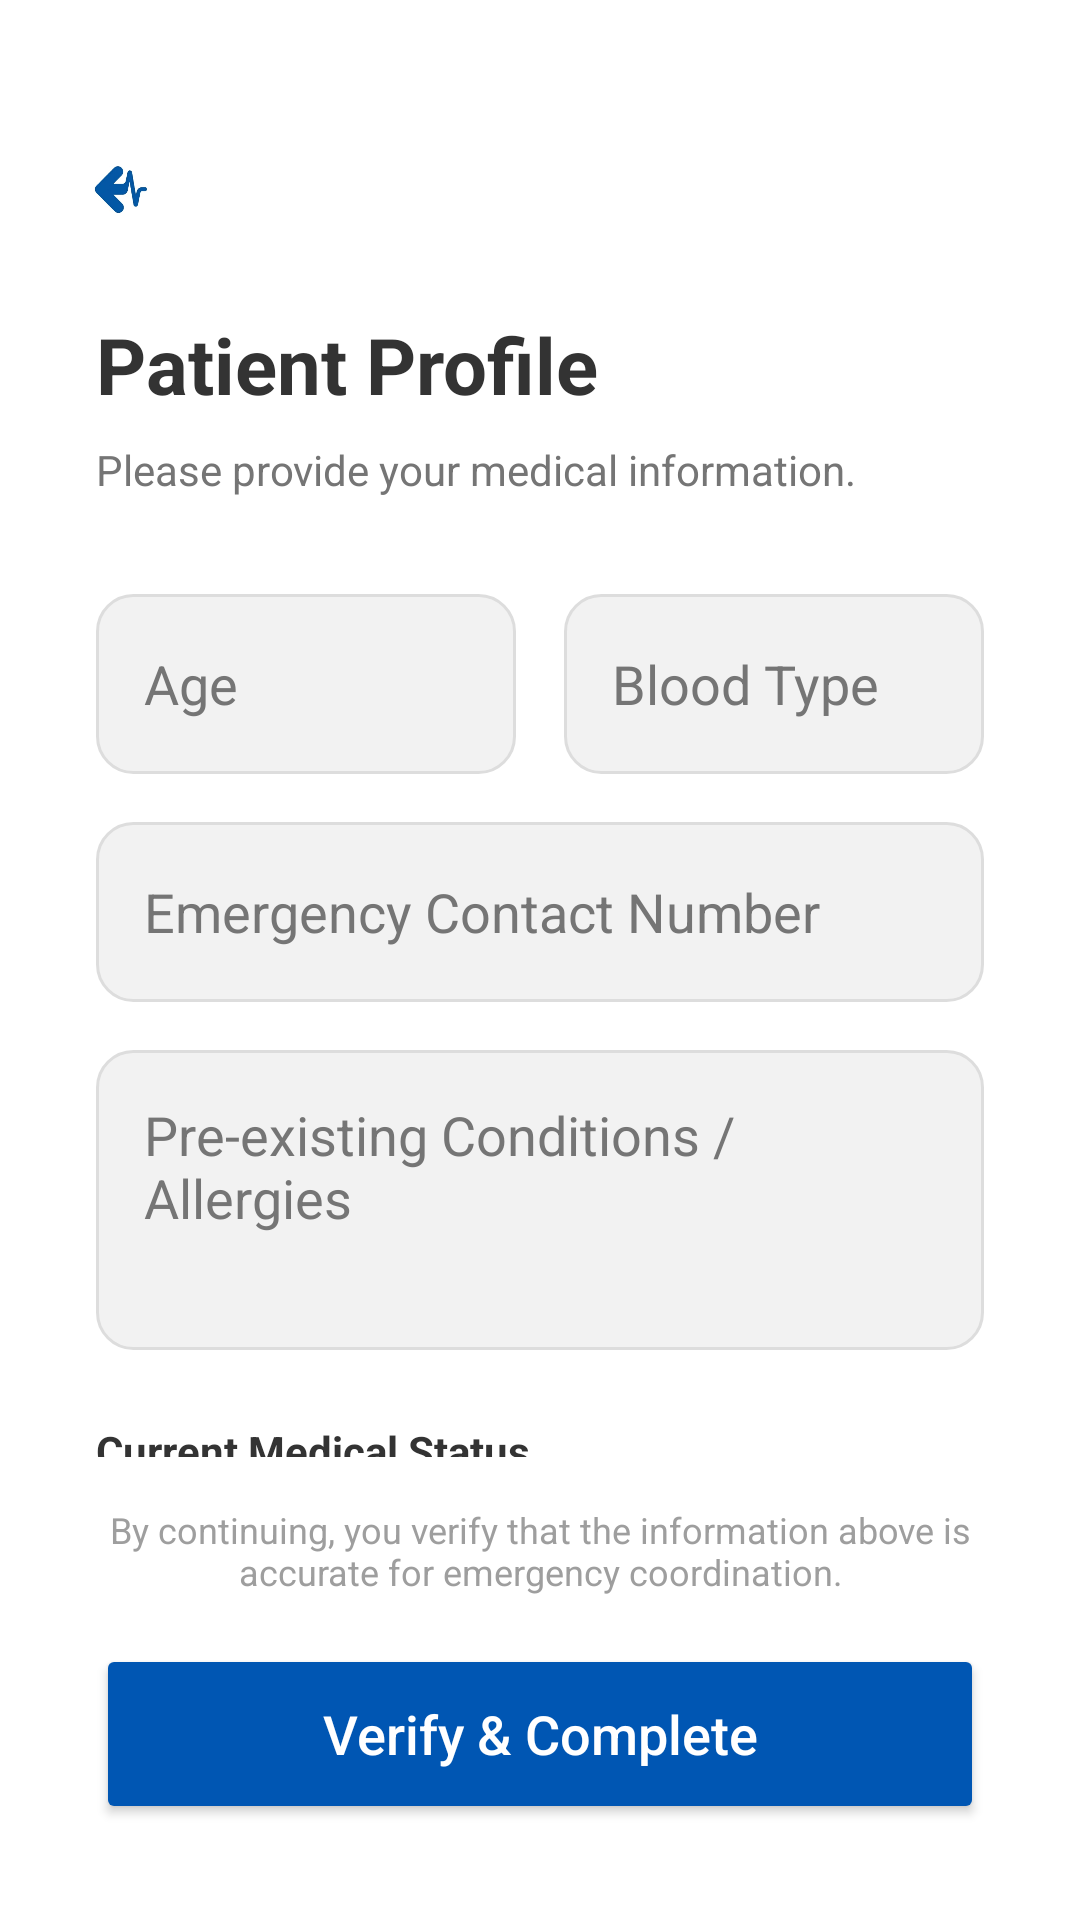

Where to tap for icons on this 1080x1920 app screen, as (x=x, y=y):
arrow back: (x=121, y=189)
